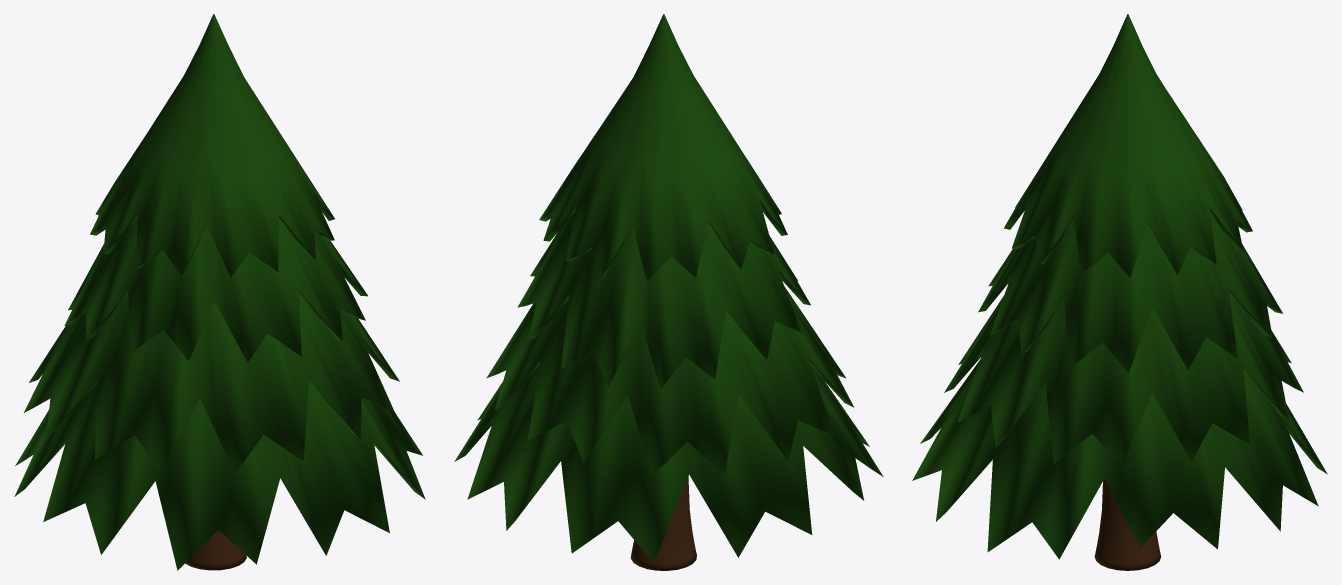
The model's file is Tree 1.fbx.
The picture shows the model from 3 angles, left to right: view 1: azimuth 30°, elevation 25°; view 2: azimuth 150°, elevation 25°; view 3: azimuth 270°, elevation 25°; orthographic projection.
Visible parts, largest first — view 1: Tree; view 2: Tree; view 3: Tree.
Part boxes in pixels (x1=…): Tree: x1=14, y1=14, x2=425, y2=570; Tree: x1=454, y1=14, x2=883, y2=570; Tree: x1=912, y1=14, x2=1327, y2=570.
Bounding box in the file's own units: 2.94 × 4.16 × 2.89.
